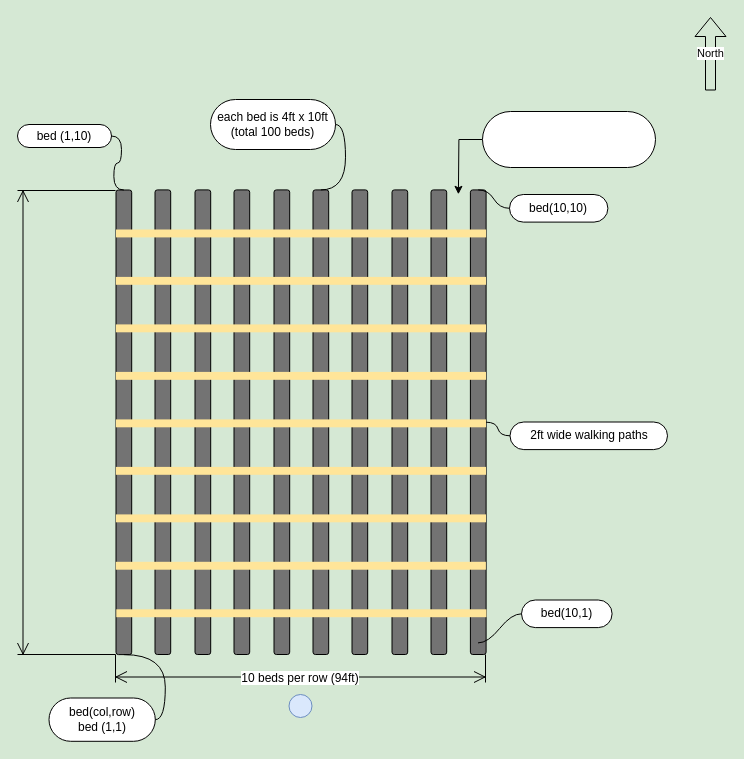
Image size: 744x759. Some labels were removed from this diagram. Each missing label, with the centre of its shape:
"10 beds per column (118ft)" goes at pixel 66 422.
"6ft wide driving path between columns, green space" goes at pixel 569 139.
"spicket" goes at pixel 300 706.
